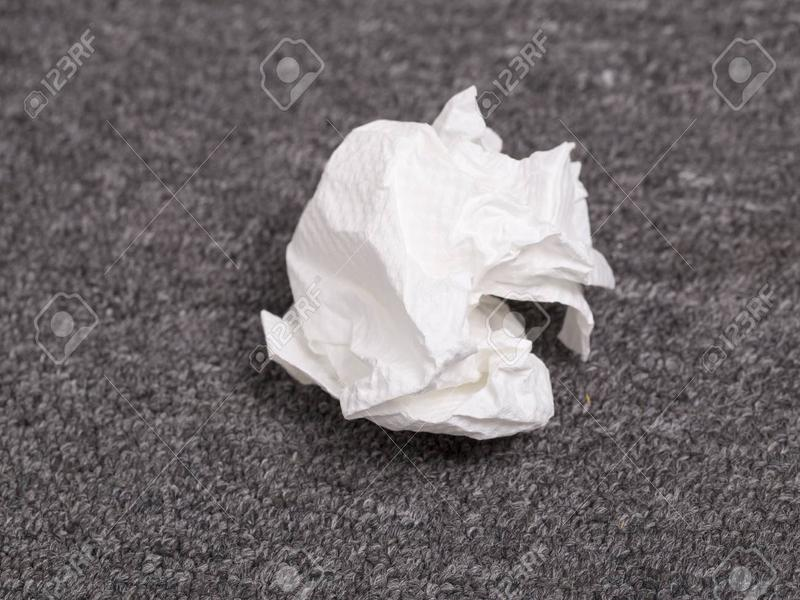paper: (224, 79, 624, 444)
